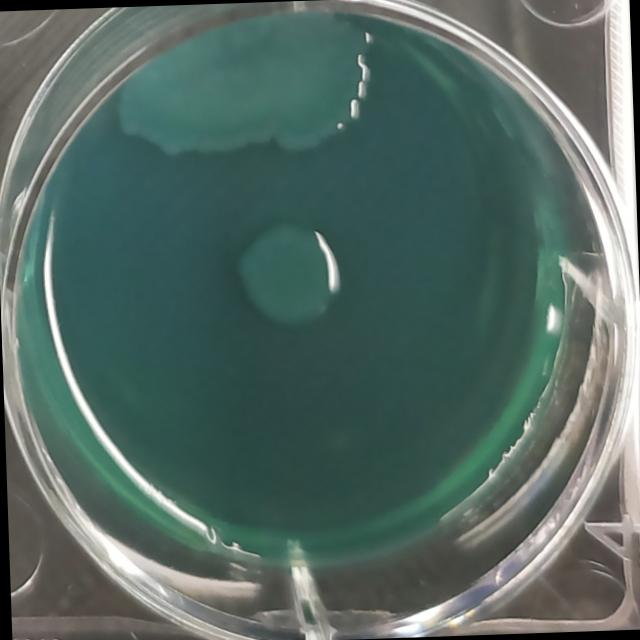vibrio: (99, 7, 378, 170), (228, 218, 346, 334)
